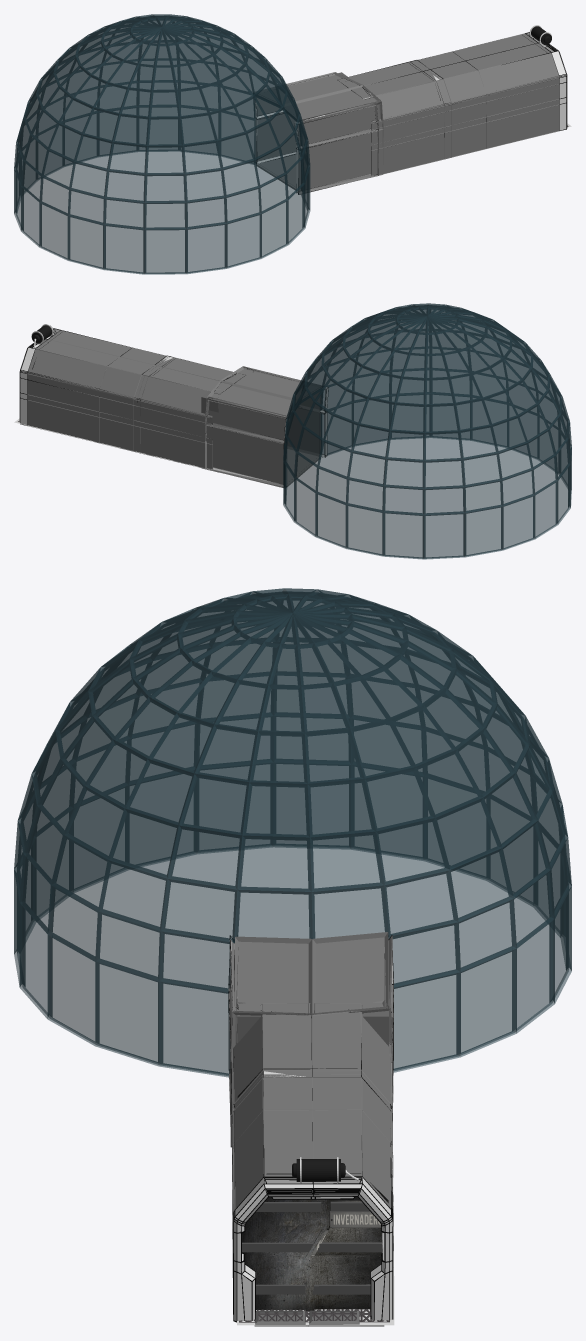
The model's file is domo.fbx.
3 renders of one model, top to bottom at view 1: azimuth 30°, elevation 25°; view 2: azimuth 150°, elevation 25°; view 3: azimuth 270°, elevation 25°, orthographic. The views are drawn at different scales.
Visible parts, largest first — view 1: DOMO AZUL; view 2: DOMO AZUL; view 3: DOMO AZUL.
Part boxes in pixels (x1,y1,x2,y2): DOMO AZUL: (14, 14, 571, 274); DOMO AZUL: (14, 303, 571, 559); DOMO AZUL: (14, 588, 571, 1326).
Bounding box in the file's own units: 29637 × 10116 × 14504.
21 materials, 2 textured.
